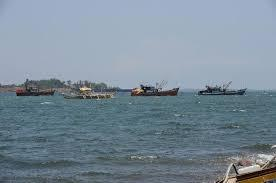Ship: (17, 80, 55, 97), (65, 88, 113, 100), (132, 86, 179, 97), (199, 87, 248, 96)
